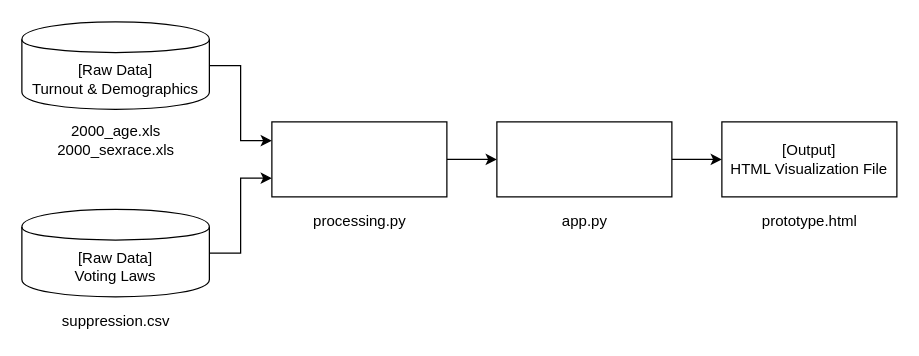
Some shapes in this 919 by 356 pixel diagram are drawn without their labels. Each missing label, with the box of its shape:
Dashboard Manager: (496, 121, 672, 197)
Data Processor: (271, 121, 447, 197)
